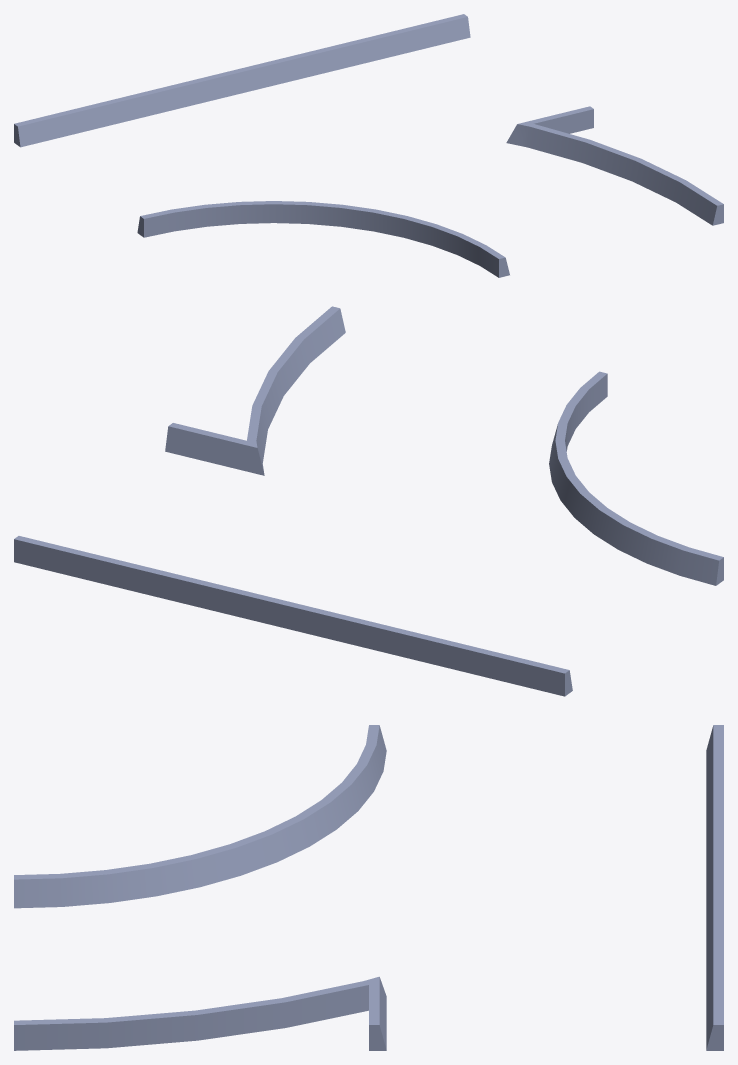
The model's file is road-curve-intersection-barrier.glb.
3 views of the same model, one above another, from view 1: azimuth 30°, elevation 25°; view 2: azimuth 150°, elevation 25°; view 3: azimuth 270°, elevation 25° (orthographic). The views are drawn at different scales.
Visible parts, largest first — view 1: road-curve-intersection-barrier; view 2: road-curve-intersection-barrier; view 3: road-curve-intersection-barrier.
Part boxes in pixels (left/top/right/bottom): road-curve-intersection-barrier: left=14, top=14, right=723, bottom=277; road-curve-intersection-barrier: left=14, top=306, right=723, bottom=696; road-curve-intersection-barrier: left=14, top=725, right=723, bottom=1050.
Size of the model in its own units: 2 by 0.08 by 2.
Materials: 1 (1 with a texture image).
